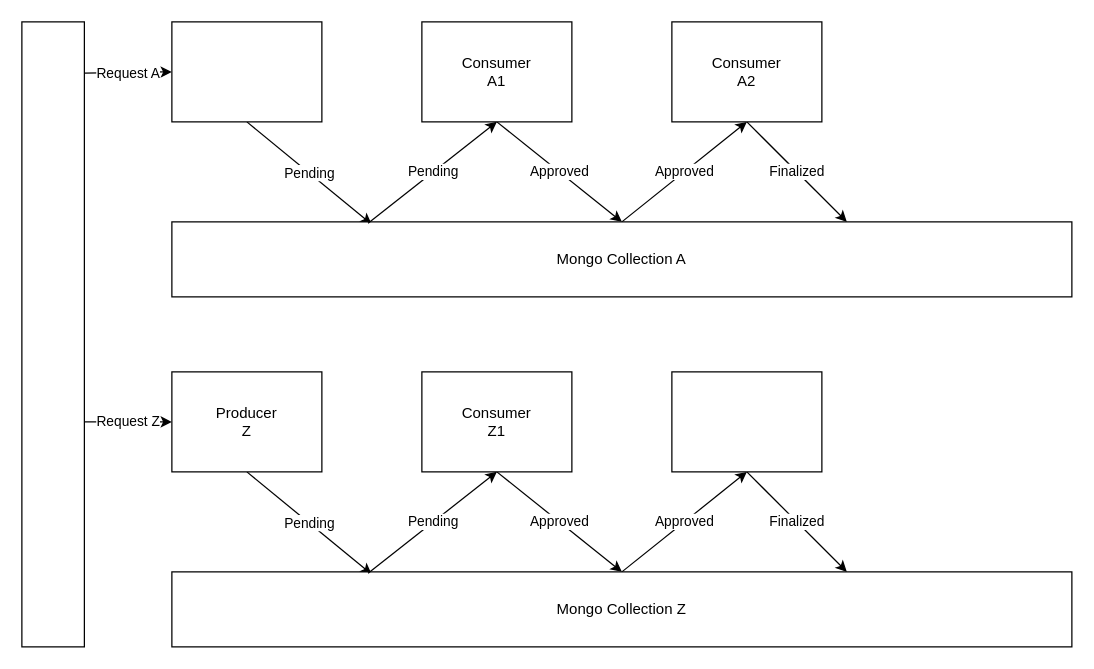
The diagram is 1094 pixels wide and 669 high, and some of its shapes have lost their labels. The shapes that lost their labels are listed below. From the top down, each one's centre as x and y in pixels, then its label:
At pixel 246 71: "Producer A".
At pixel 52 334: "API Gateway".
At pixel 746 421: "Consumer Z2".
